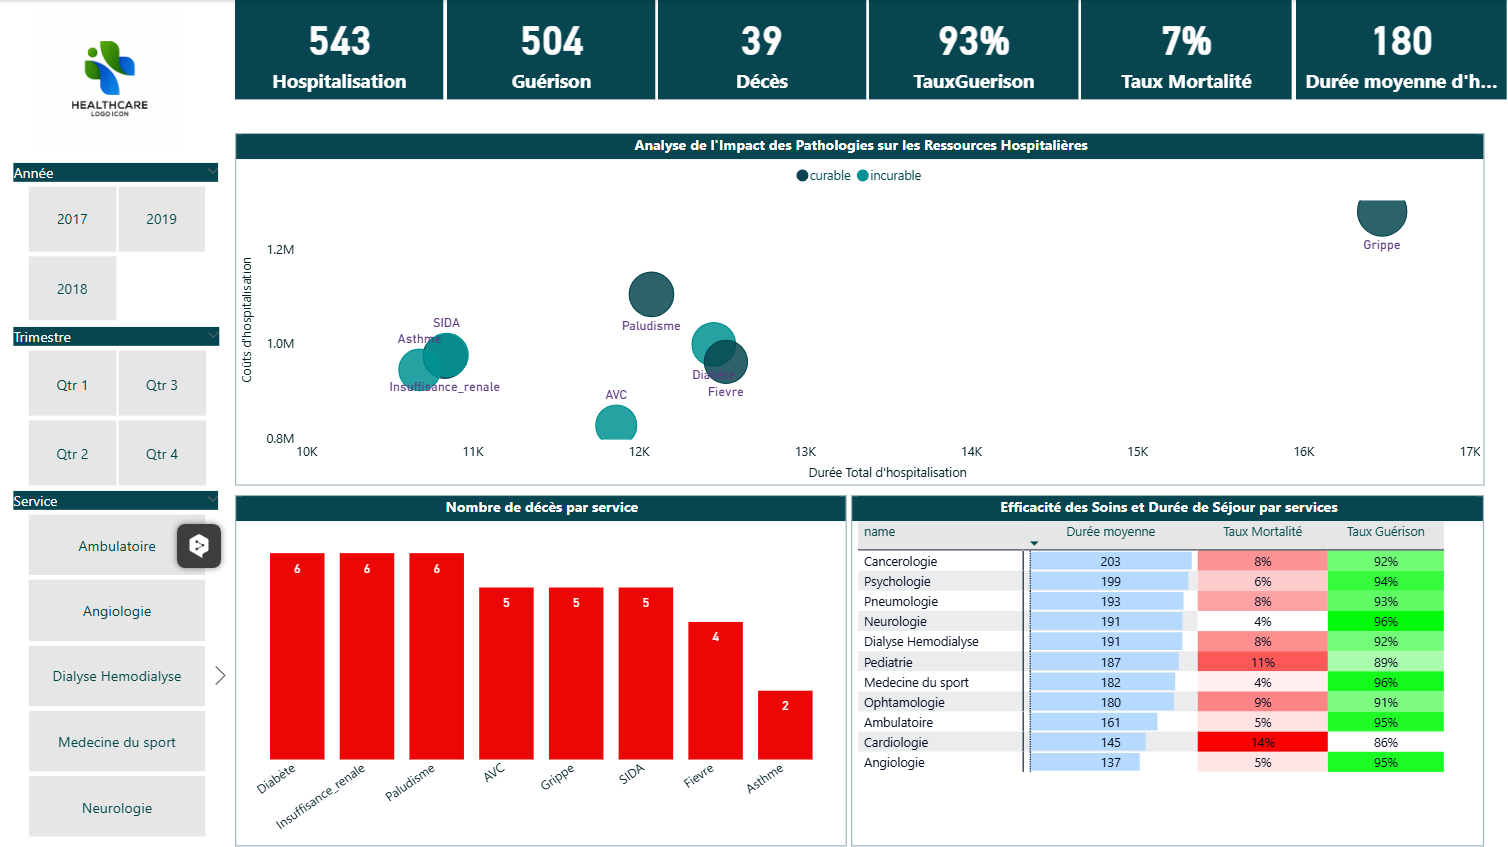

The page's visual inventory and layout, read from the dashboard file:
{"tool":"powerbi","page":{"name":"Analyse Clinique & Qualité (Hospitalisation)","canvas":[1280,720],"ordinal":1},"visuals":[{"type":"card","fields":{"Values":["factHospitalisation.TauxMortalite"]},"box":[914.8,0,178.2,83.8],"z":0},{"type":"card","fields":{"Values":["factHospitalisation.Nombredeces"]},"box":[557.5,0,175.5,83.8],"z":1000},{"type":"card","fields":{"Values":["factHospitalisation.TauxGuerison"]},"box":[735.7,0,177.3,83.8],"z":2000},{"type":"slicer","fields":{"Values":["DateTable.Date.Variation.Date Hierarchy.Quarter"]},"box":[0,271.1,199.6,146.1],"z":3000},{"type":"slicer","fields":{"Values":["DateTable.Date.Variation.Date Hierarchy.Year"]},"box":[0,133,199,145.1],"z":4000},{"type":"slicer","fields":{"Values":["dimService.name"]},"box":[0,410.2,199,304.4],"z":5000},{"type":"image","box":[0,0,188.5,133],"z":6000},{"type":"card","fields":{"Values":["factHospitalisation.NombreGuerison"]},"box":[379.3,0,176.4,83.8],"z":7000},{"type":"card","fields":{"Values":["factHospitalisation.totalHospitalisation"]},"box":[200.2,0,176.4,83.8],"z":8000},{"type":"scatterChart","title":"Analyse de l''Impact des Pathologies sur les Ressources Hospitalières","fields":{"Y":["factHospitalisation.recetteHospitalisation"],"Size":["factHospitalisation.totalHospitalisation"],"Series":["dimDisease.type"],"Category":["dimDisease.name"],"X":["Sum(factHospitalisation.stay_hospitalization)"]},"box":[200.2,112.6,1056,297.8],"z":9000},{"type":"card","fields":{"Values":["factHospitalisation.AvgTempHospitalisation"]},"box":[1096.9,0,178.3,83.7],"z":10000},{"type":"clusteredColumnChart","title":"Nombre de décès par pathologie","fields":{"Category":["dimDisease.name"],"Y":["factHospitalisation.Nombredeces"]},"box":[200.2,417.9,516.8,296.5],"z":10001},{"type":"pivotTable","title":"Efficacité des Soins et Durée de Séjour par services","fields":{"Rows":["dimService.name"],"Values":["factHospitalisation.AvgTempHospitalisation","factHospitalisation.TauxMortalite","factHospitalisation.TauxGuerison"]},"box":[721.1,418.1,535.2,296.6],"z":10002}]}

Visuals, with their boxes in screenshot pixels (x1, y1, x2, y2), scaled from the page's 1280x720 canvas onto the 1508x847 screenshot:
card - factHospitalisation.TauxMortalite: (x1=1078, y1=0, x2=1288, y2=99)
card - factHospitalisation.Nombredeces: (x1=657, y1=0, x2=864, y2=99)
card - factHospitalisation.TauxGuerison: (x1=867, y1=0, x2=1076, y2=99)
slicer - DateTable.Date.Variation.Date Hierarchy.Quarter: (x1=0, y1=319, x2=235, y2=491)
slicer - DateTable.Date.Variation.Date Hierarchy.Year: (x1=0, y1=156, x2=234, y2=327)
slicer - dimService.name: (x1=0, y1=483, x2=234, y2=841)
image: (x1=0, y1=0, x2=222, y2=156)
card - factHospitalisation.NombreGuerison: (x1=447, y1=0, x2=655, y2=99)
card - factHospitalisation.totalHospitalisation: (x1=236, y1=0, x2=444, y2=99)
"Analyse de l''Impact des Pathologies sur les Ressources Hospitalières" scatterChart: (x1=236, y1=132, x2=1480, y2=483)
card - factHospitalisation.AvgTempHospitalisation: (x1=1292, y1=0, x2=1502, y2=98)
"Nombre de décès par pathologie" clusteredColumnChart: (x1=236, y1=492, x2=845, y2=840)
"Efficacité des Soins et Durée de Séjour par services" pivotTable: (x1=850, y1=492, x2=1480, y2=841)
